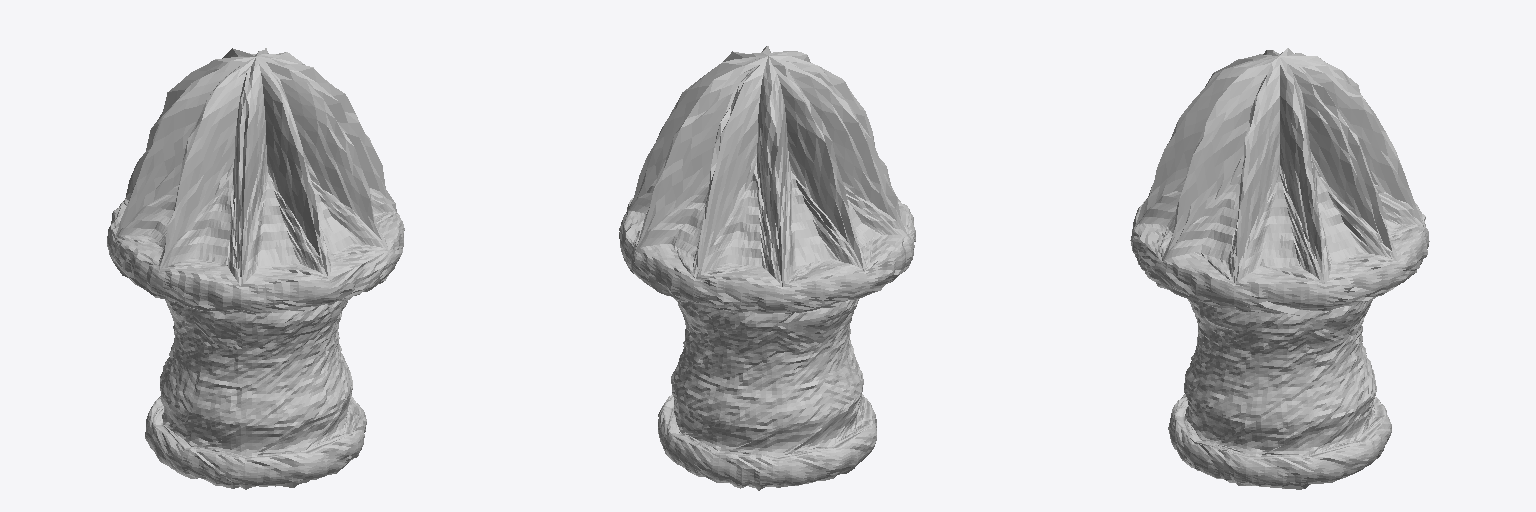
File: JankArrow.obj
3 renders of one model, left to right at view 1: azimuth 30°, elevation 25°; view 2: azimuth 150°, elevation 25°; view 3: azimuth 270°, elevation 25°, orthographic.
Parts seen in each view (by area): view 1: Cylinder; view 2: Cylinder; view 3: Cylinder.
Part boxes in pixels (x1,y1,x2,y2): Cylinder: (107,48,404,489); Cylinder: (619,46,915,490); Cylinder: (1130,48,1429,489).
Size of the model in its own units: 3.11 by 4.61 by 3.13.